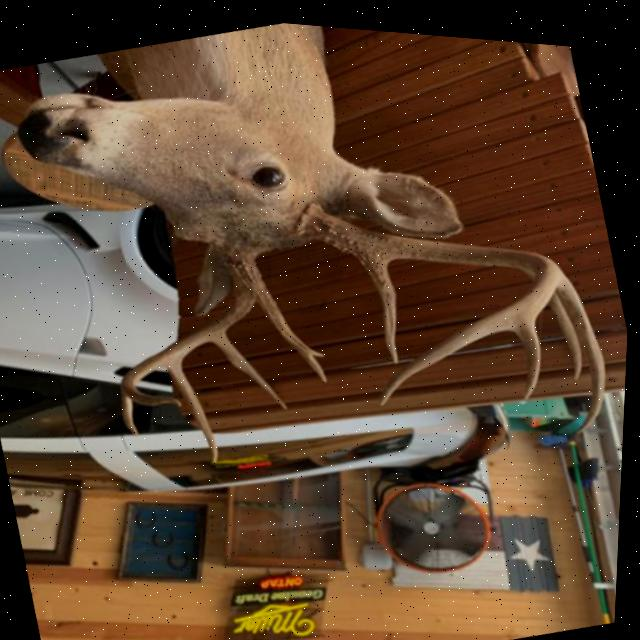E1: (312, 341, 328, 351)
L-F: (124, 243, 260, 403)
L-G1: (243, 262, 331, 377)
L-G2: (214, 326, 291, 404)
L-G3: (170, 358, 222, 460)
R-F: (299, 198, 564, 399)
R-G1: (361, 252, 402, 357)
R-G3: (558, 263, 610, 425)
R-G4: (515, 313, 544, 390)
